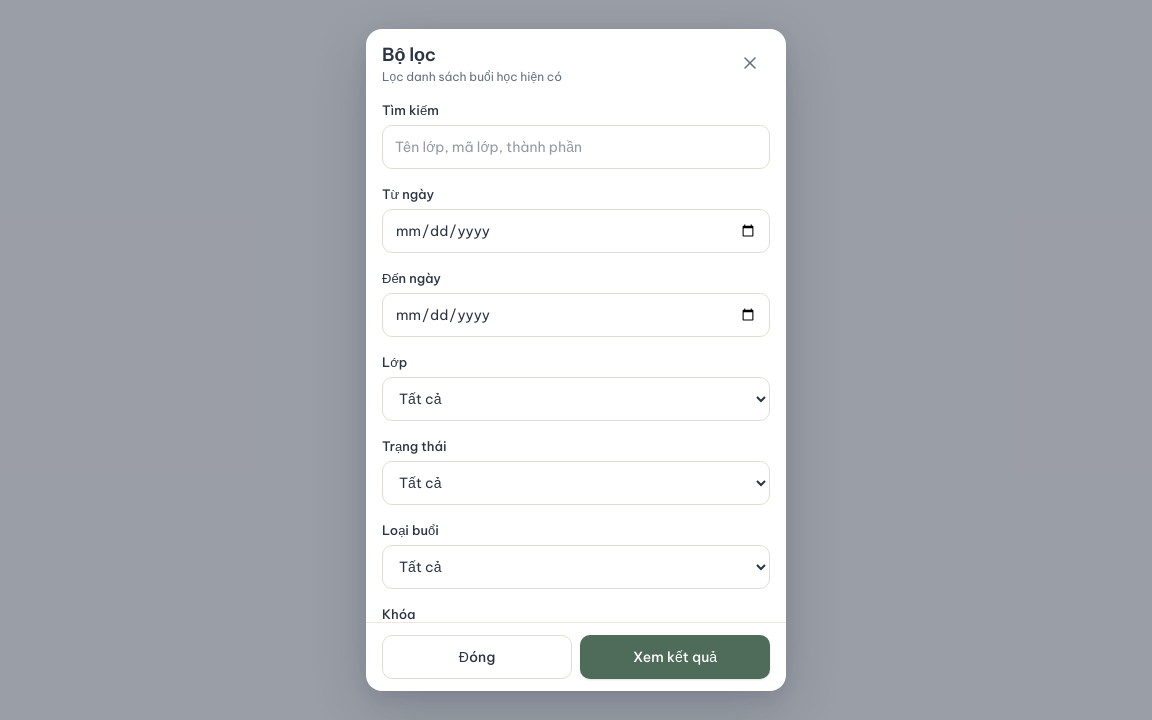
Test: Sessions directory presentation › announces active filters and clears them
Select "Đã lên lịch" in the dropdown with test id "mobile-session-status" at (576, 483), box [382,461,770,505]
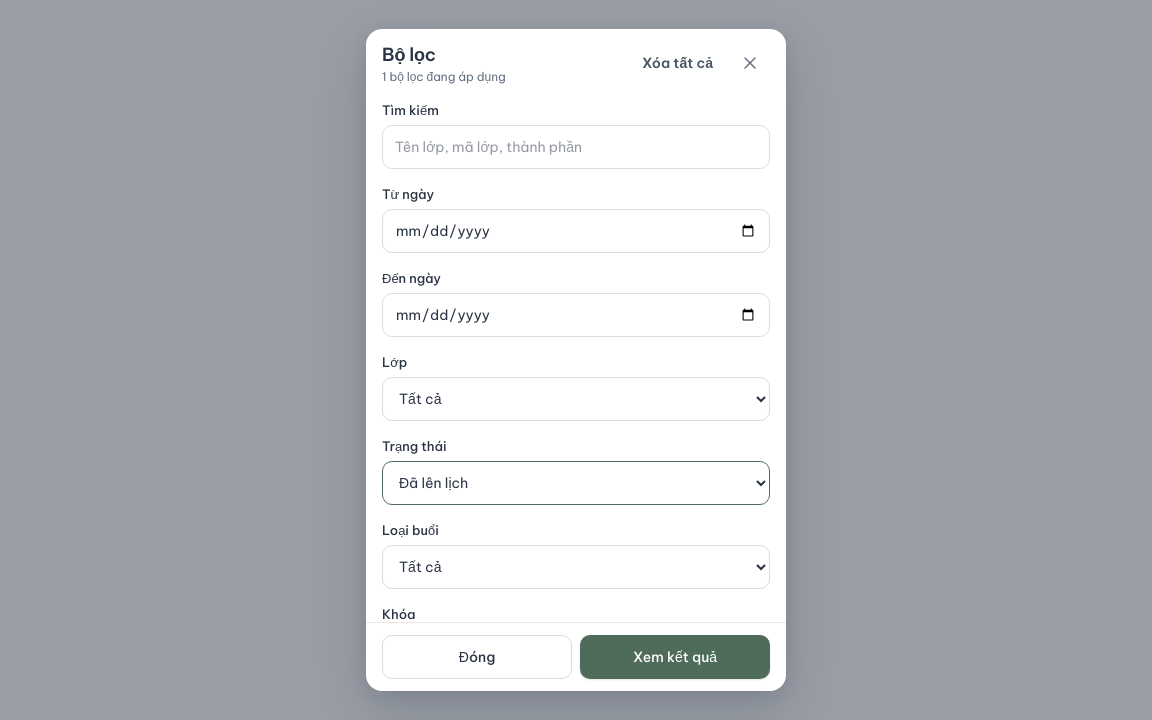
Select "Chính" in the dropdown with test id "mobile-session-kind" at (576, 567), box [382,545,770,589]
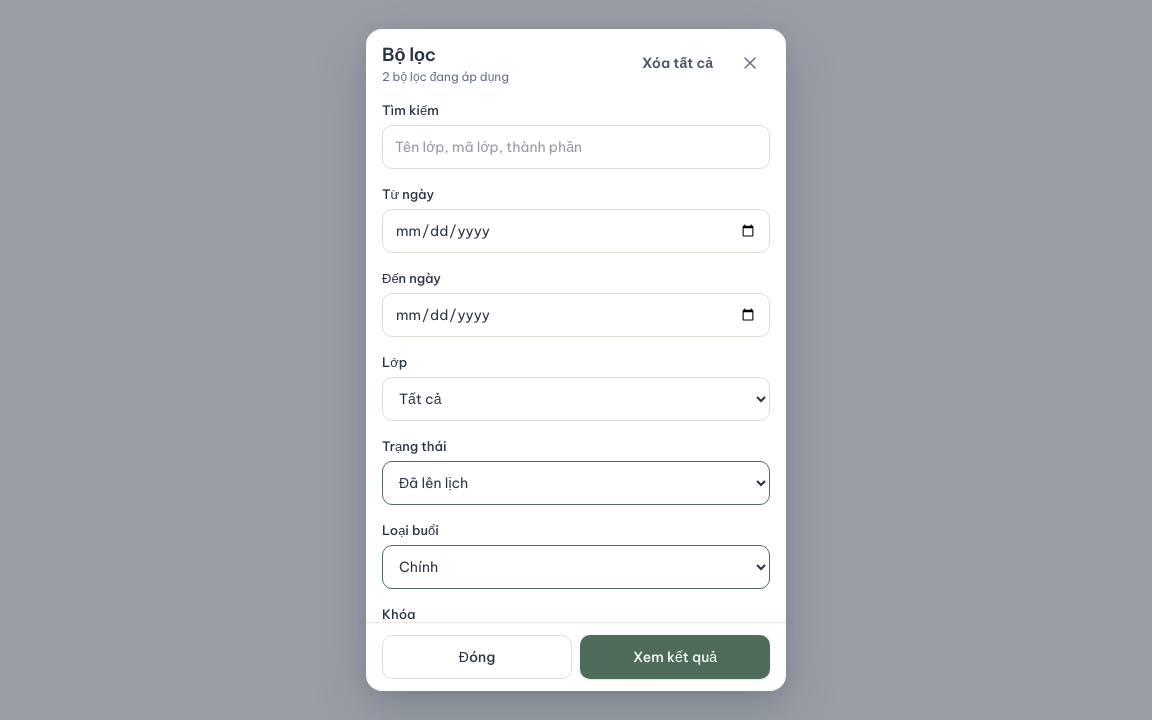
Expected: the text "2 bộ lọc đang áp dụng" is shown, [382,69,509,85]
Click the button with test id "mobile-session-reset-filters" at (677, 63), box [629,43,726,83]
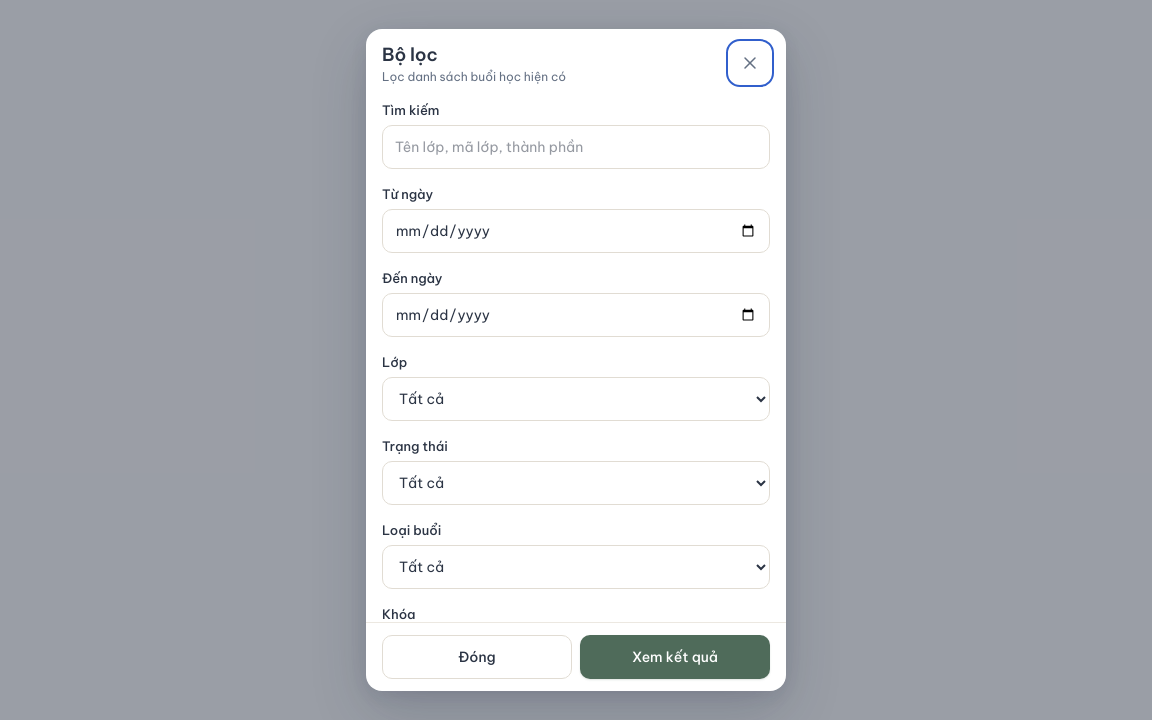
Expected: the text "Lọc danh sách buổi học hiện có" is shown, [382,69,566,85]
